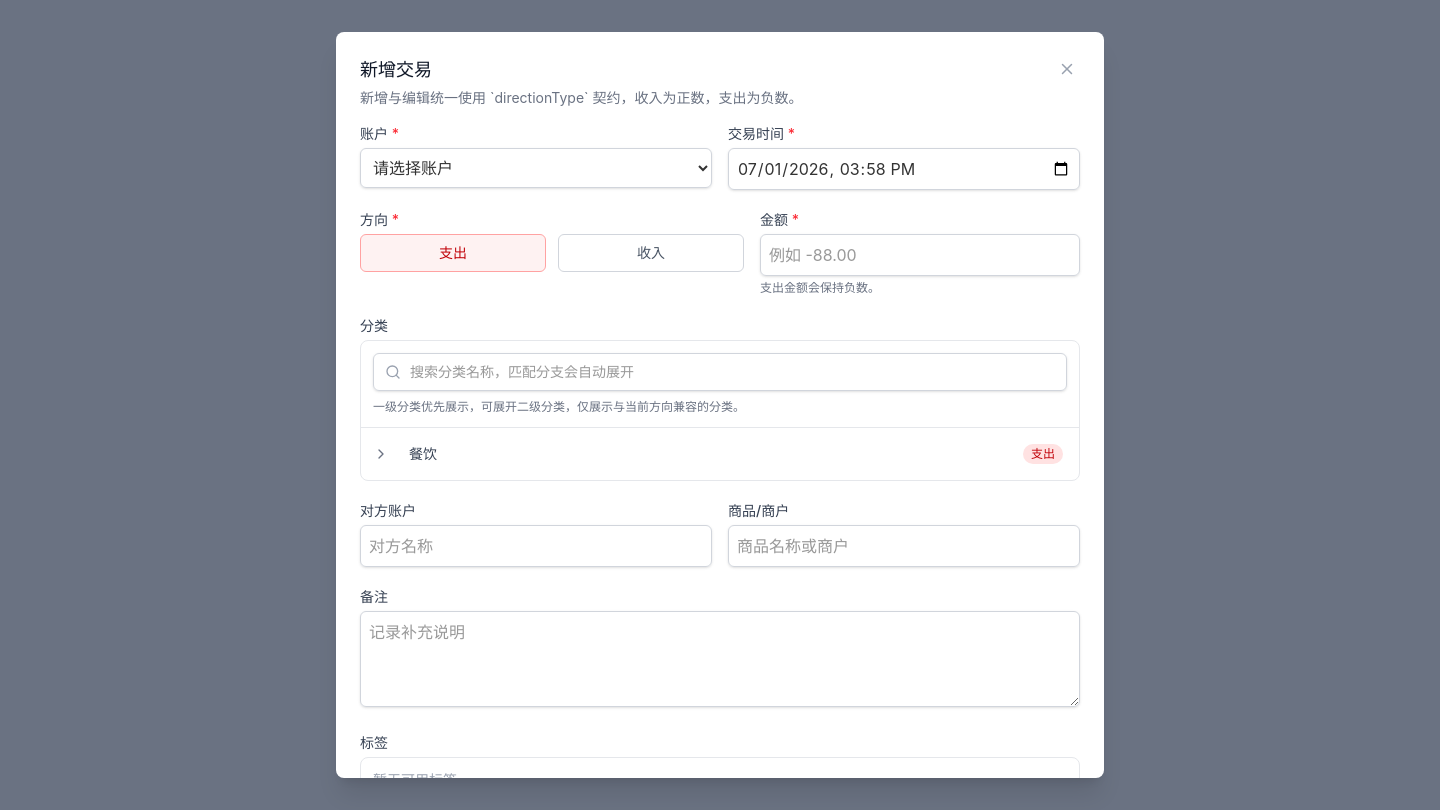
TransactionFormModal › 按关键字搜索分类时自动展开匹配分支并允许选中子分类
Type "咖啡" into the field with placeholder "搜索分类名称，匹配分支会自动展开" at [720, 372], box [373,353,1067,391]
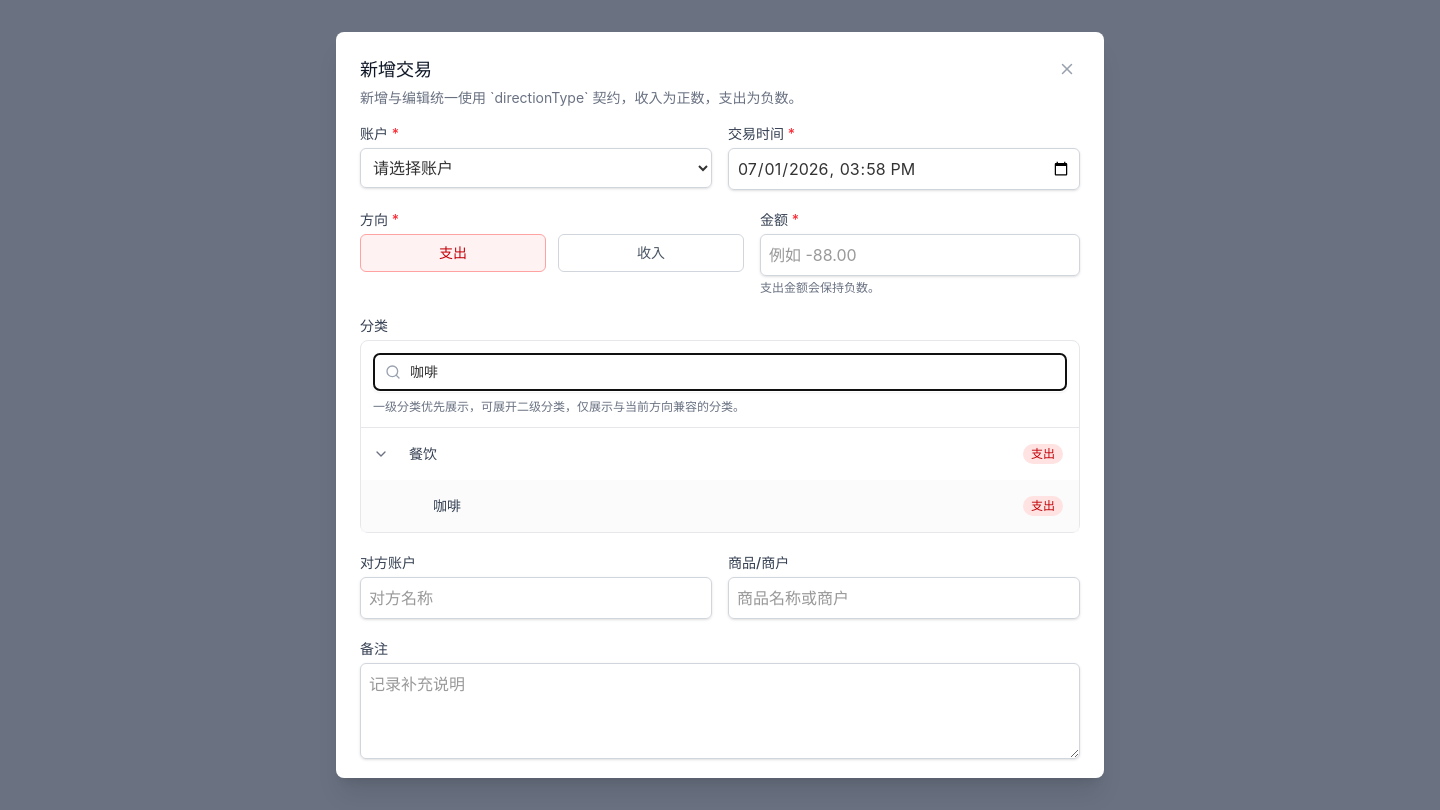
Result: the text "咖啡" is shown
Click the text "咖啡" at [447, 506], box [433,496,461,516]
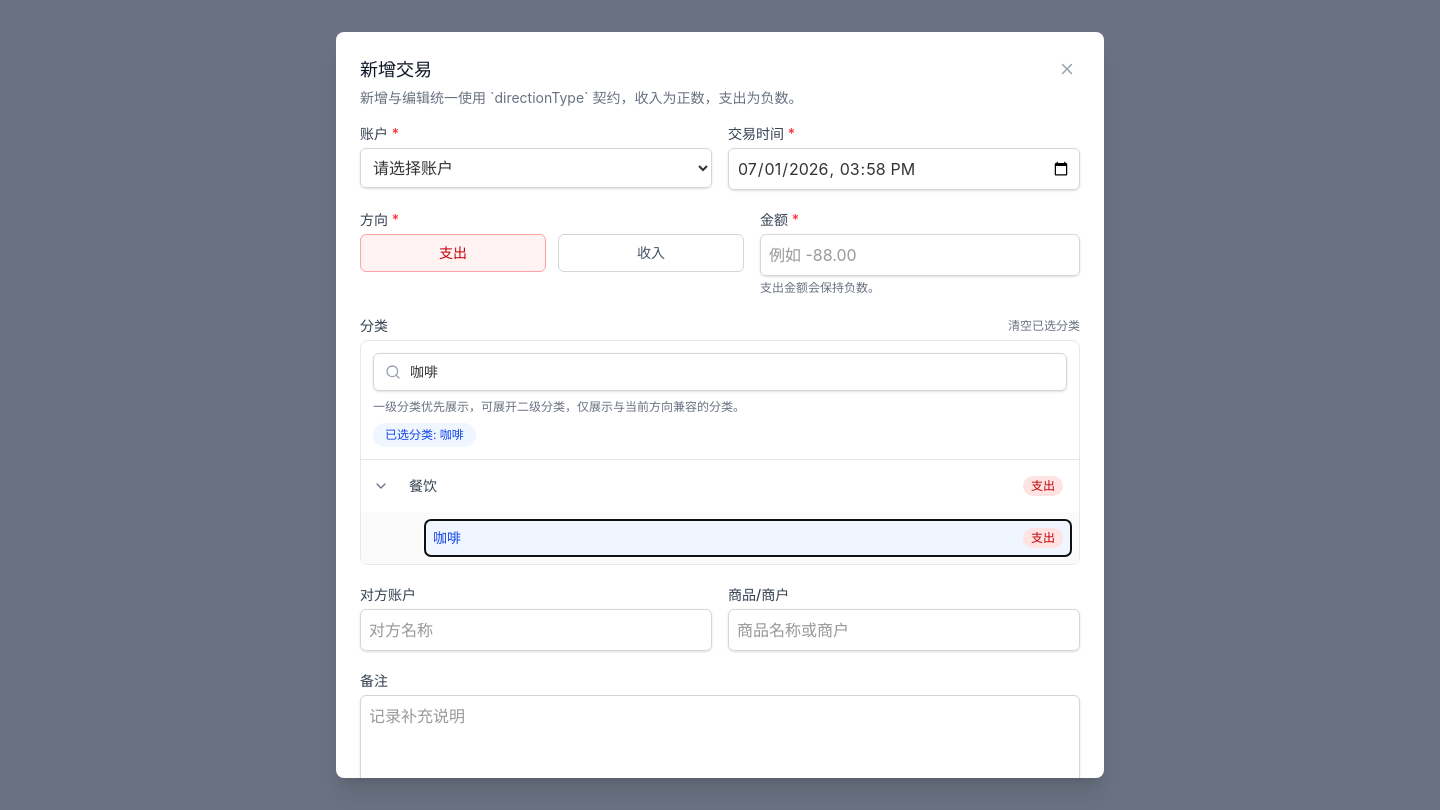
Result: the text "已选分类: 咖啡" is shown at [373,423,476,447]
